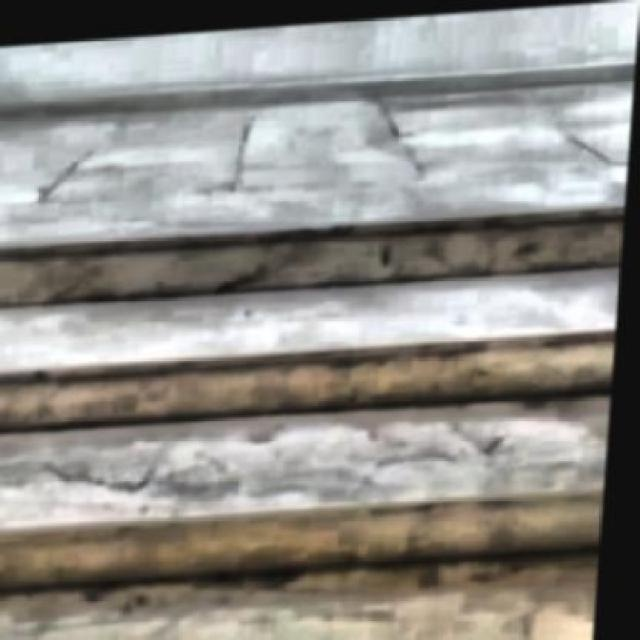stair: (2, 185, 629, 639)
